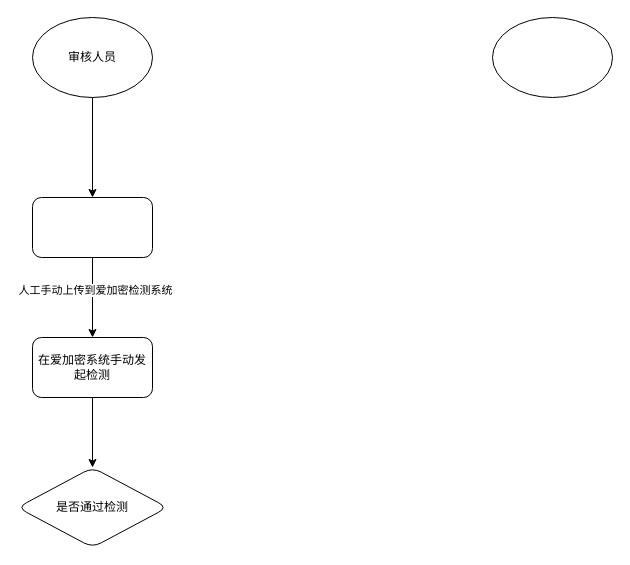
Image size: 630x565. Some labels were removed from this diagram. The shapes that lost their labels are listed below. From the top down, each one's centre as x and y in pixels, then its label:
At point (552, 57): "隐私检测程序".
At point (92, 227): "在DC审核后台获取新增/更新apk".
